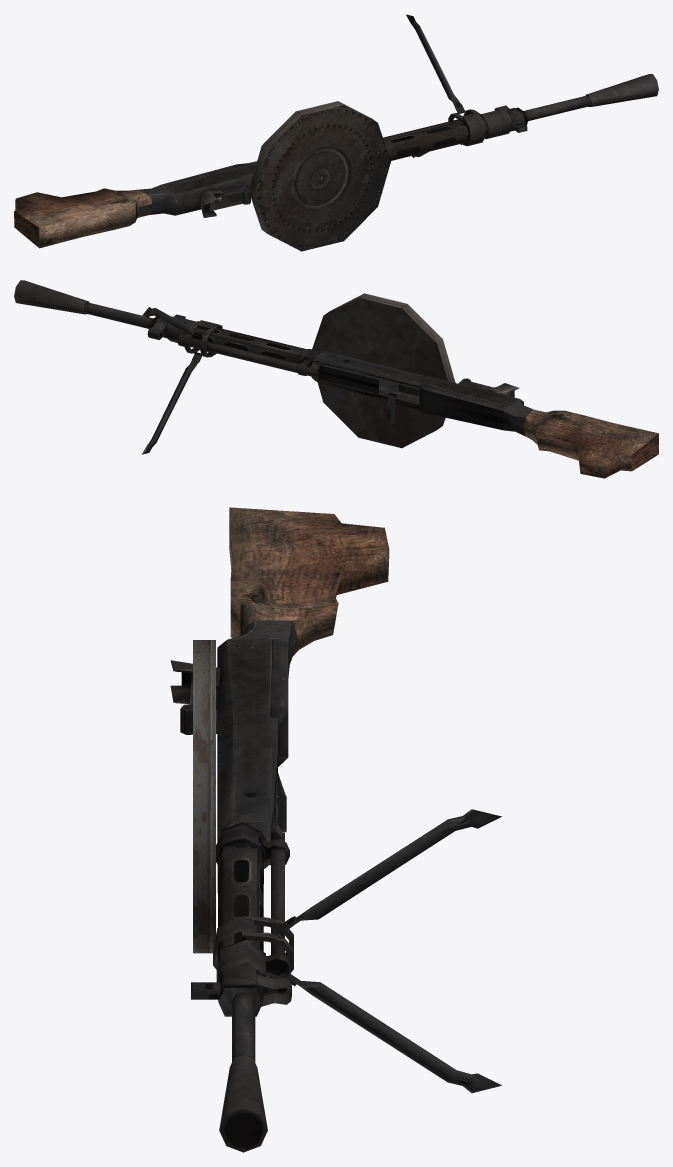
The model's file is weapon_rus_dp28_bipod_lmg_LOD11.obj.
The picture shows the model from 3 angles, top to bottom: view 1: azimuth 30°, elevation 25°; view 2: azimuth 150°, elevation 25°; view 3: azimuth 270°, elevation 25°; orthographic projection. The views are drawn at different scales.
Parts seen in each view (by area): view 1: TomGroup_0, TomGroup_1; view 2: TomGroup_0, TomGroup_1; view 3: TomGroup_0, TomGroup_1.
Boxes of the visible parts, x1,y1,x2,y2 form: TomGroup_0: (14, 14, 658, 248); TomGroup_1: (249, 101, 390, 251); TomGroup_0: (14, 280, 658, 478); TomGroup_1: (312, 293, 455, 448); TomGroup_0: (170, 507, 501, 1152); TomGroup_1: (193, 640, 215, 953).
Size of the model in its own units: 134 by 29.6 by 31.32.
Materials: 2 (2 with a texture image).
